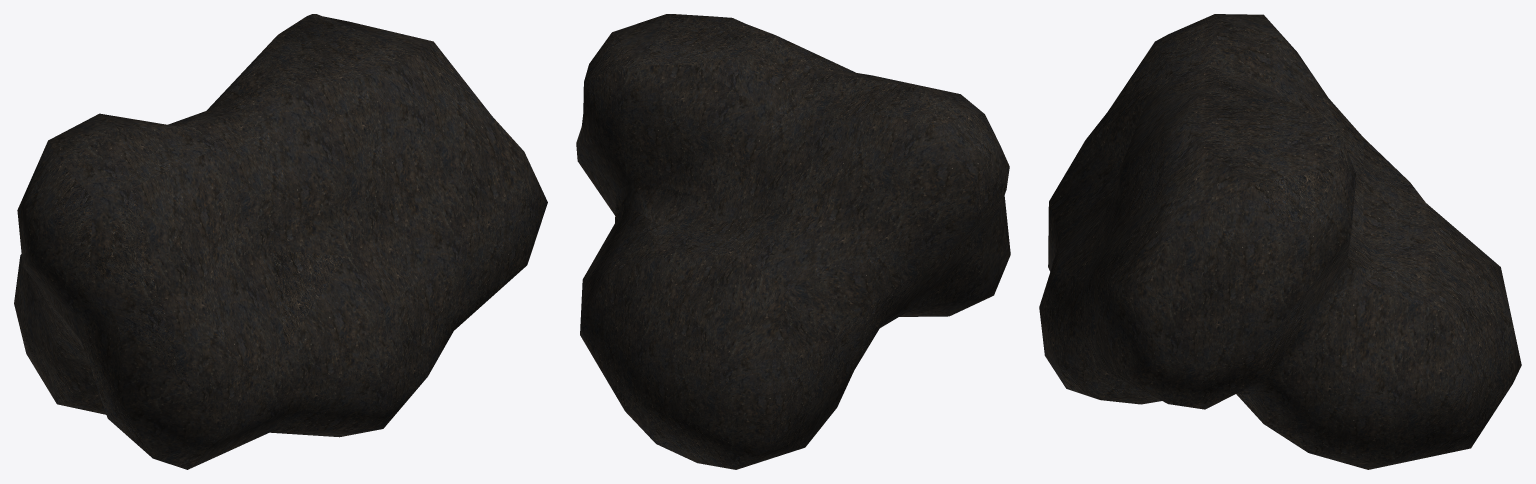
The model's file is rocher06.gltf.
3 renders of one model, left to right at view 1: azimuth 30°, elevation 25°; view 2: azimuth 150°, elevation 25°; view 3: azimuth 270°, elevation 25°, orthographic. The views are drawn at different scales.
Visible parts, largest first — view 1: Mball.009; view 2: Mball.009; view 3: Mball.009.
Part boxes in pixels (<box>): Mball.009: <box>14,14,547,469</box>; Mball.009: <box>576,14,1010,469</box>; Mball.009: <box>1039,14,1521,469</box>.
Size of the model in its own units: 6.22 by 4.65 by 5.4.
1 material, 1 textured.
